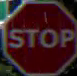Stop: (2, 3, 76, 75)
